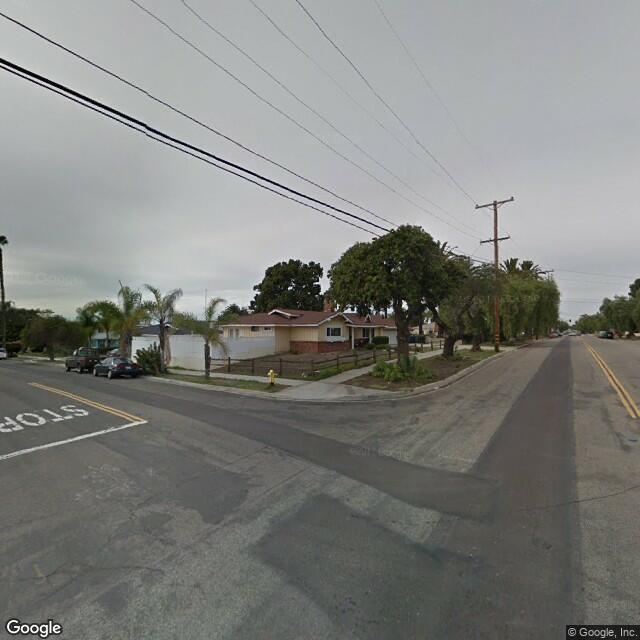litter: (434, 385, 440, 389)
